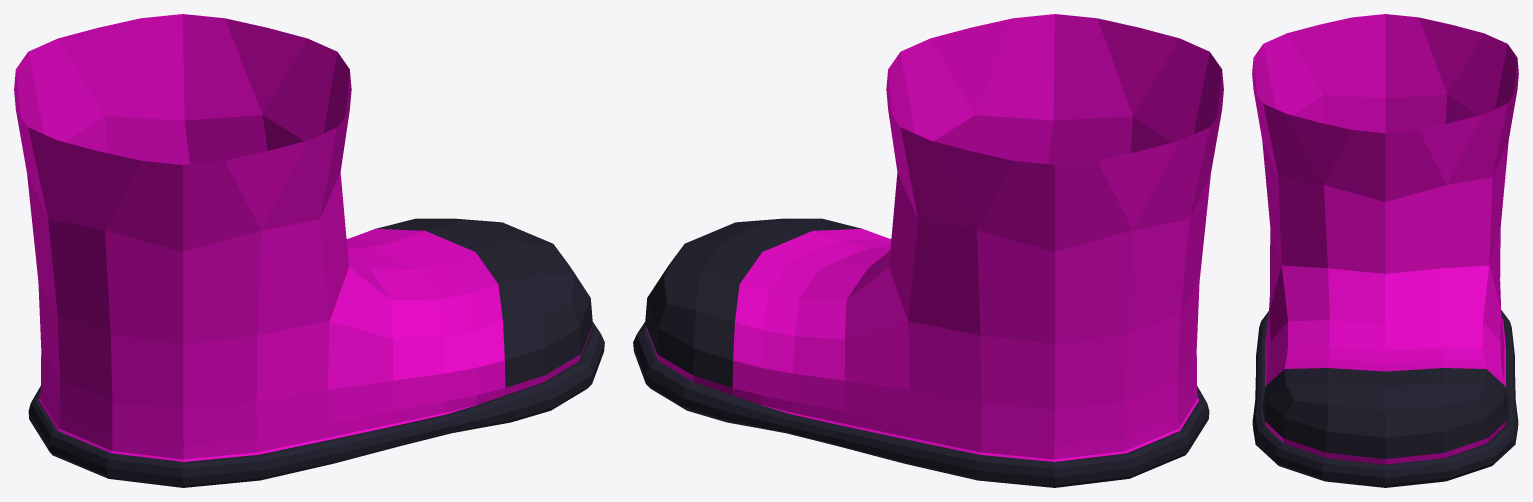
Rendered from boots.fbx.
3 renders of one model, left to right at view 1: azimuth 30°, elevation 25°; view 2: azimuth 150°, elevation 25°; view 3: azimuth 270°, elevation 25°, orthographic. The views are drawn at different scales.
Visible parts, largest first — view 1: Cylinder; view 2: Cylinder; view 3: Cylinder.
Boxes of the visible parts, x1,y1,x2,y2 form: Cylinder: [14, 14, 604, 487]; Cylinder: [633, 14, 1223, 487]; Cylinder: [1252, 14, 1518, 487].
Size of the model in its own units: 328 by 191 by 173.
